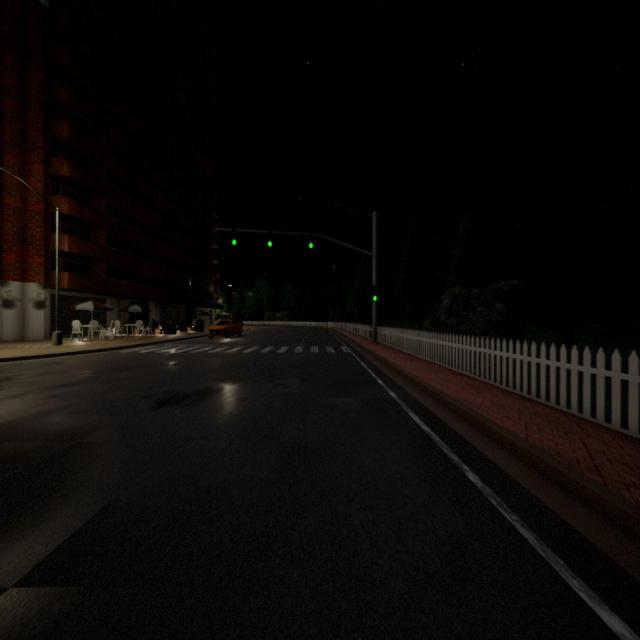Vehicle: (208, 318, 243, 339)
traffic_light: (372, 286, 378, 302), (308, 234, 314, 248), (232, 230, 237, 246), (268, 232, 272, 247)
